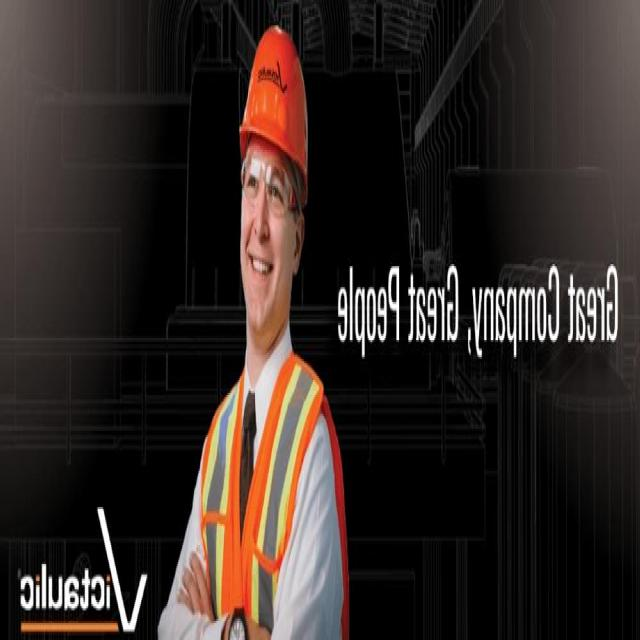Reflective-Jacket: (193, 333, 351, 640)
Safety-Helmet: (237, 19, 312, 196)
